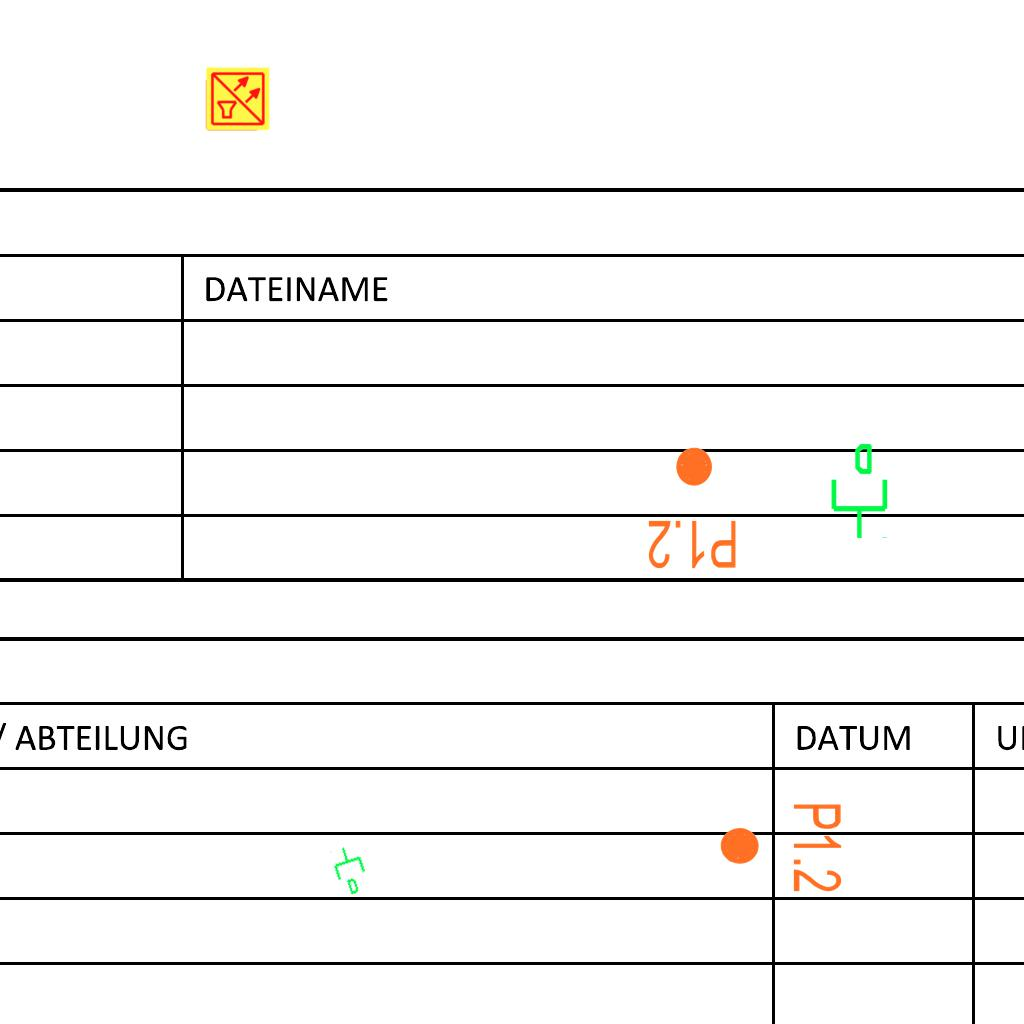Datenanschluss_einfach: (823, 441, 892, 541), (327, 840, 375, 900)
Downlight_LED_Einbauleuchten_Flur: (646, 444, 739, 572), (717, 801, 845, 894)
OKW_Multisensormelder_(Kombination_optischer_Rauch-Kahlenmonoxid_Waerme-Melder): (205, 66, 271, 132)
